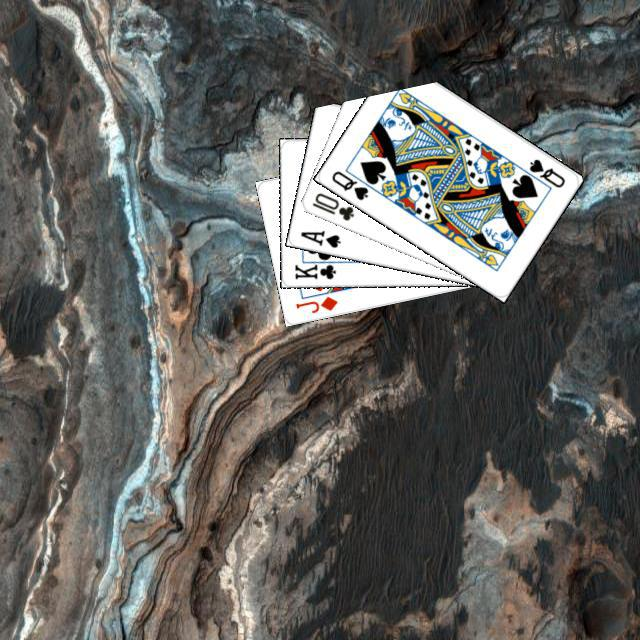10c: (307, 188, 356, 222)
As: (295, 225, 342, 249)
Jd: (290, 291, 339, 315)
Kc: (290, 255, 342, 281)
Qs: (327, 166, 370, 202), (524, 154, 567, 189)
